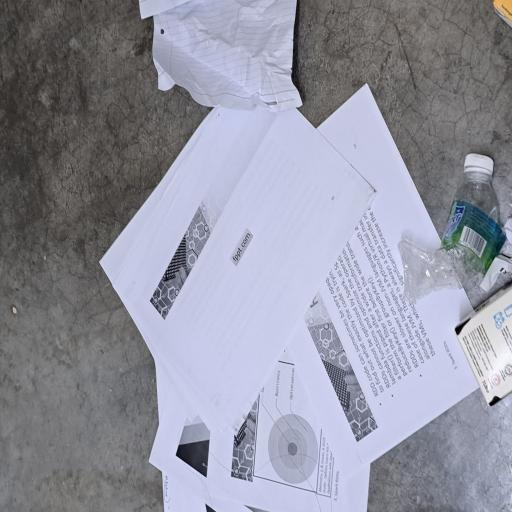paper: (0, 130, 321, 512), (300, 182, 384, 402)
